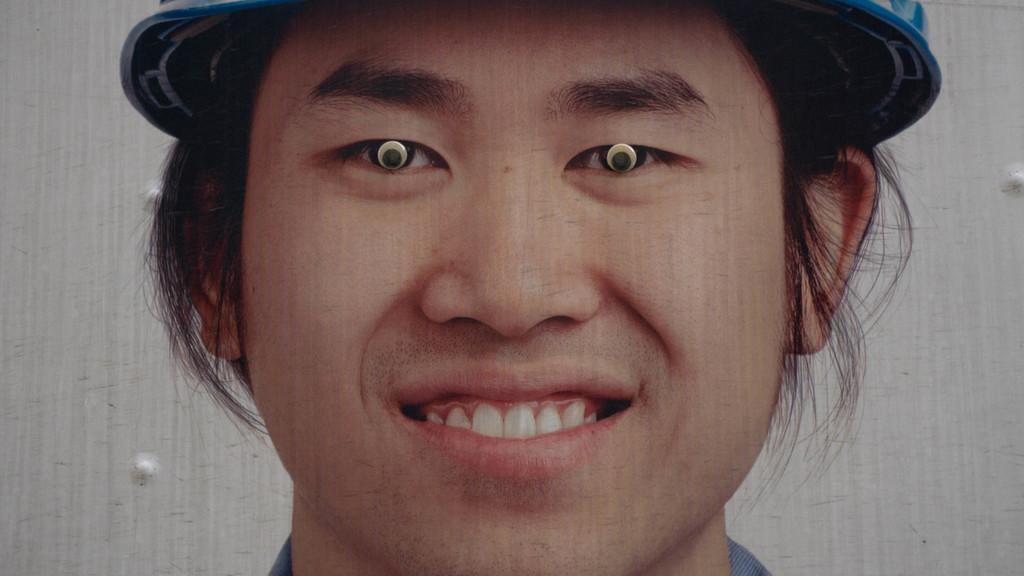Hat: (119, 0, 943, 135)
